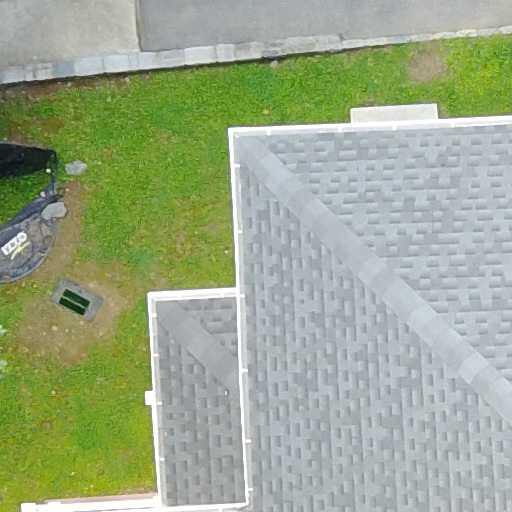grate: (47, 274, 123, 329)
